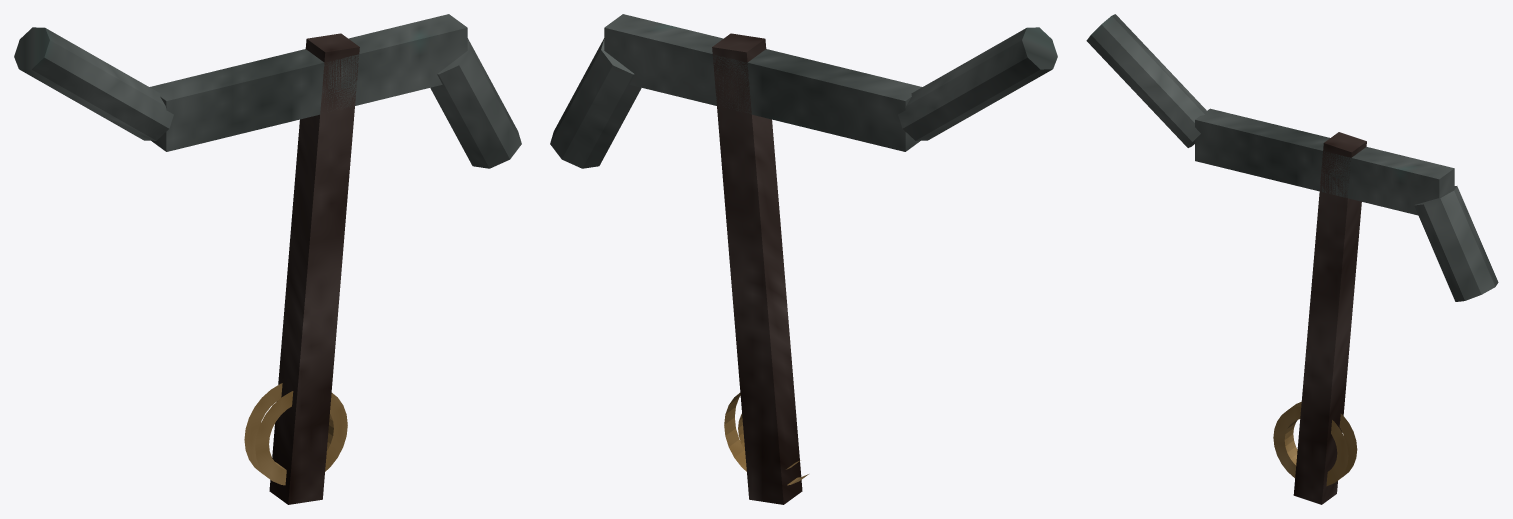
The model's file is 0900_climbing_axe_25.glb.
3 renders of one model, left to right at view 1: azimuth 30°, elevation 25°; view 2: azimuth 150°, elevation 25°; view 3: azimuth 330°, elevation 25°, orthographic. The views are drawn at different scales.
Visible parts, largest first — view 1: iron, wood_dark, brass; view 2: iron, wood_dark, brass; view 3: iron, wood_dark, brass.
Boxes of the visible parts, x1,y1,x2,y2 form: iron: [14, 14, 521, 168]; wood_dark: [269, 33, 359, 504]; brass: [244, 383, 347, 485]; iron: [550, 14, 1057, 168]; wood_dark: [712, 33, 802, 504]; brass: [724, 393, 808, 485]; iron: [1086, 14, 1498, 301]; wood_dark: [1293, 132, 1366, 504]; brass: [1273, 402, 1357, 486].
Size of the model in its own units: 1.08 by 1.09 by 0.11.
Materials: 3 (3 with a texture image).
